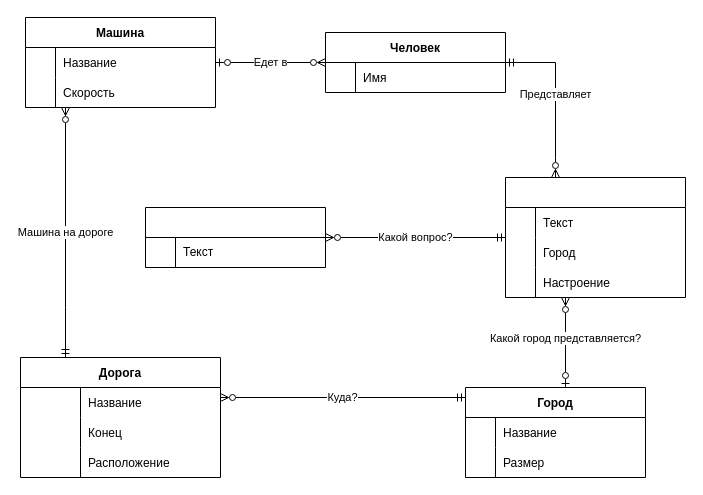
The diagram is 703 pixels wide and 495 high, and some of its shapes have lost their labels. The box of each missing label's shape, as (x1, y1, x2, y2) in pixels:
Воображение: (504, 176, 686, 298)
Вопрос: (144, 206, 326, 268)
